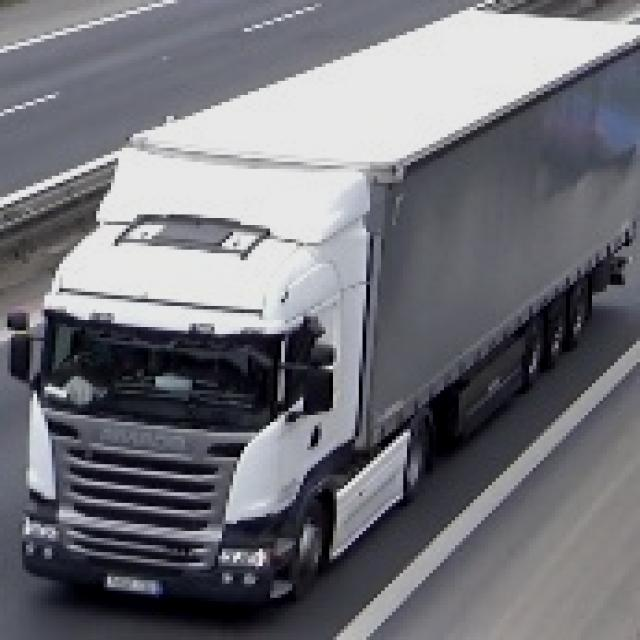TRUCK: (33, 3, 640, 612)
